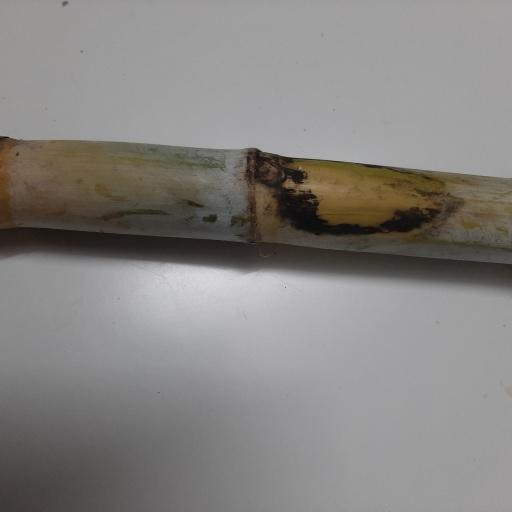Bud: (255, 160, 281, 183)
